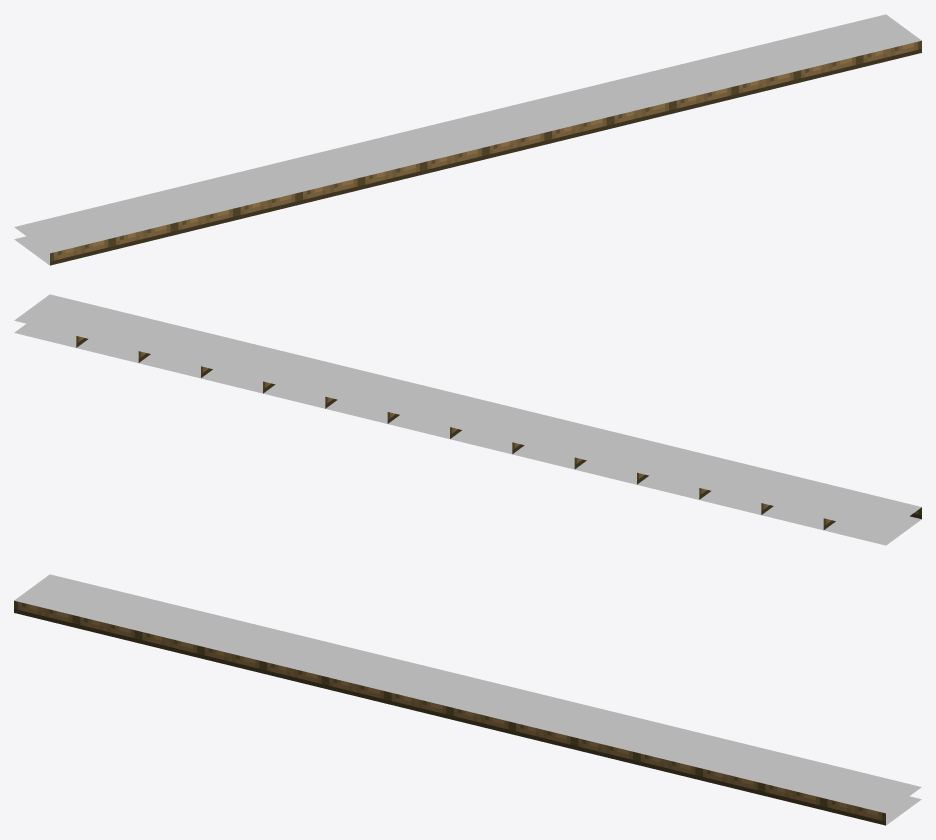
File: trapdoor_combined_3a_lod0.fbx
3 views of the same model, one above another, from view 1: azimuth 30°, elevation 25°; view 2: azimuth 150°, elevation 25°; view 3: azimuth 330°, elevation 25° (orthographic).
Visible parts, largest first — view 1: trapdoor_combined_3a_lod0; view 2: trapdoor_combined_3a_lod0; view 3: trapdoor_combined_3a_lod0.
Part boxes in pixels (<box>): trapdoor_combined_3a_lod0: <box>14,14,921,265</box>; trapdoor_combined_3a_lod0: <box>14,294,921,545</box>; trapdoor_combined_3a_lod0: <box>14,574,921,825</box>.
Bounding box in the file's own units: 1422 × 19.05 × 102.
